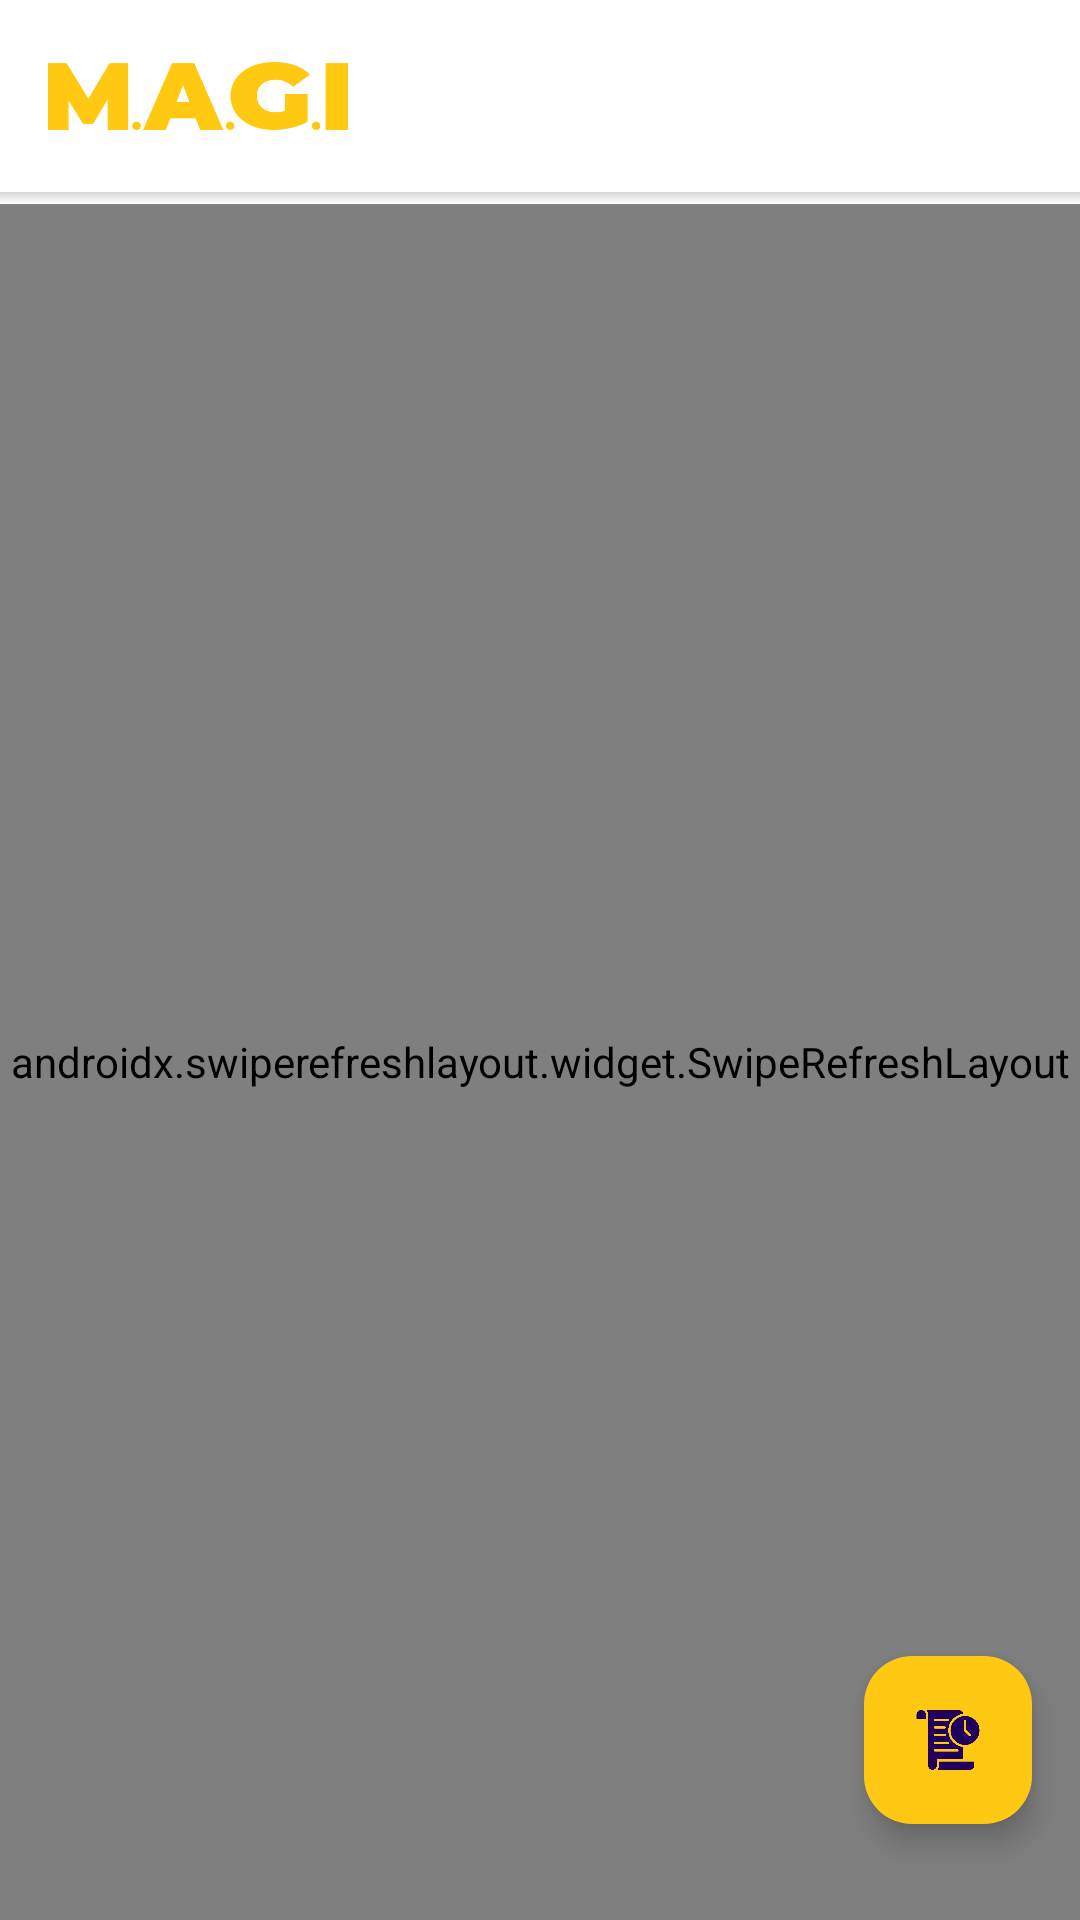

Locate icon controls on the screen. Image size 1080*1920, boxes as rect(x1, y1, x2, y2).
history: rect(864, 1656, 1032, 1824)
